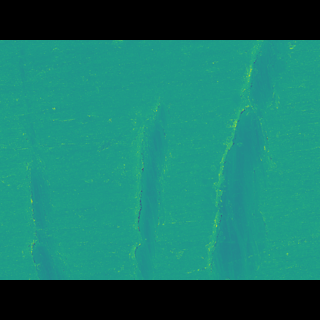Loch: (204, 71, 299, 251), (1, 71, 75, 250), (125, 111, 179, 249)
